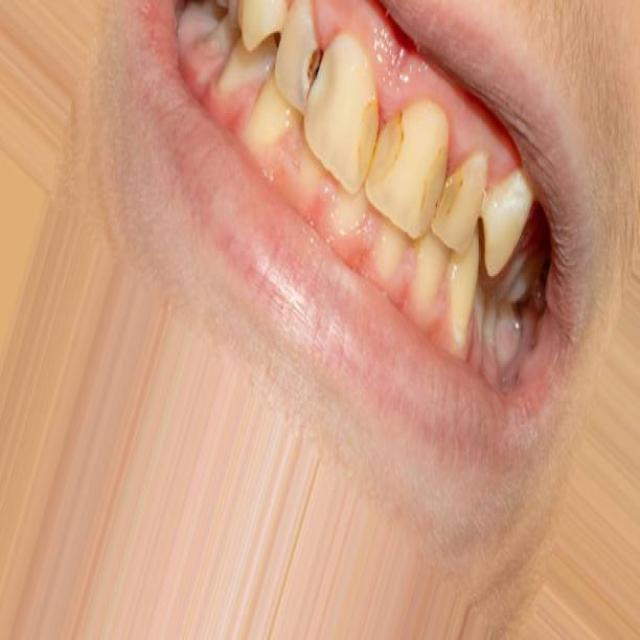caries: (354, 90, 411, 186), (291, 27, 343, 120), (419, 148, 465, 232)
